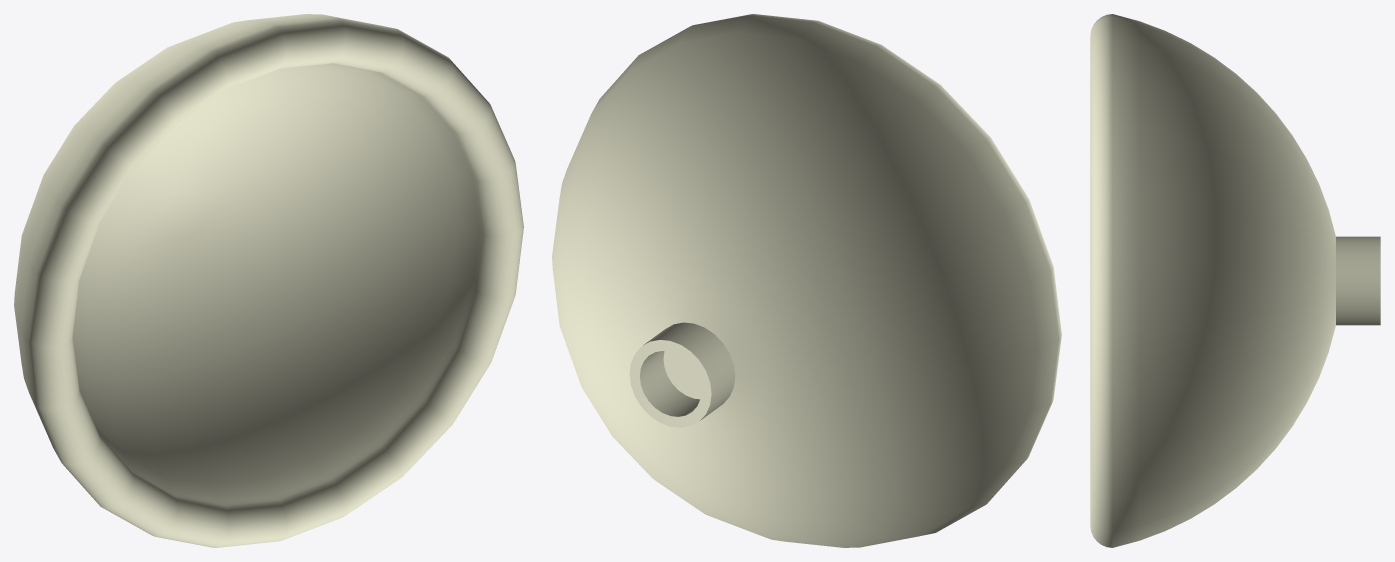
Rendered from model_align.obj.
3 views of the same model, side by side, from view 1: azimuth 30°, elevation 25°; view 2: azimuth 150°, elevation 25°; view 3: azimuth 270°, elevation 25° (orthographic). The views are drawn at different scales.
Parts seen in each view (by area): view 1: mesh1_mesh1-geometry; view 2: mesh1_mesh1-geometry; view 3: mesh1_mesh1-geometry.
Boxes of the visible parts, <box> form: mesh1_mesh1-geometry: <box>14,14,523,547</box>; mesh1_mesh1-geometry: <box>552,14,1061,547</box>; mesh1_mesh1-geometry: <box>1090,14,1380,547</box>.
Size of the model in its own units: 0.1382 by 0.1382 by 0.0749.
